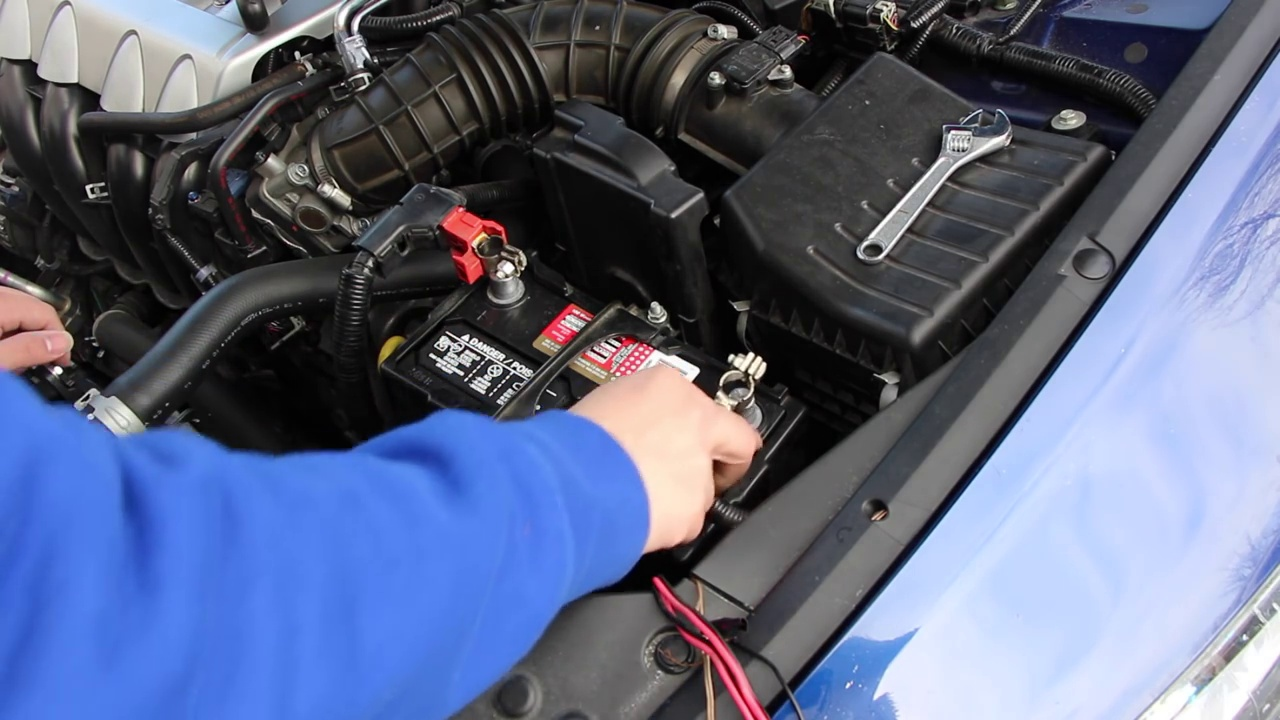battery: (382, 239, 789, 544)
neg_touched: (665, 328, 784, 548)
pos_connected: (435, 188, 534, 309)
